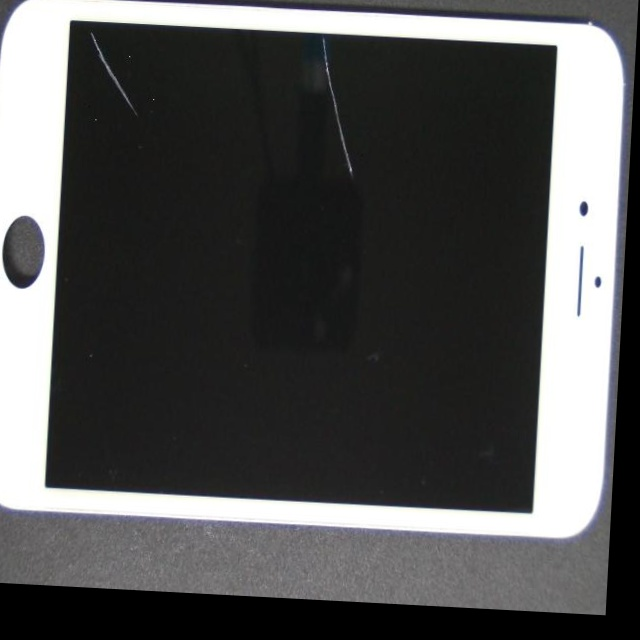scratch: (119, 0, 496, 144), (38, 43, 166, 204)
